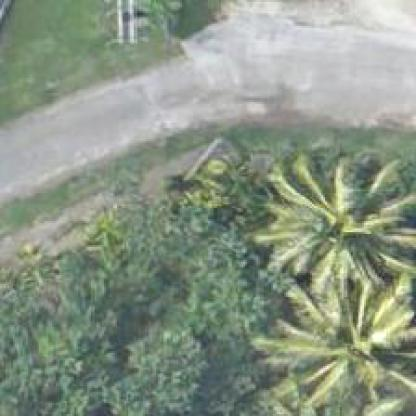coconut tree: (245, 152, 414, 414)
